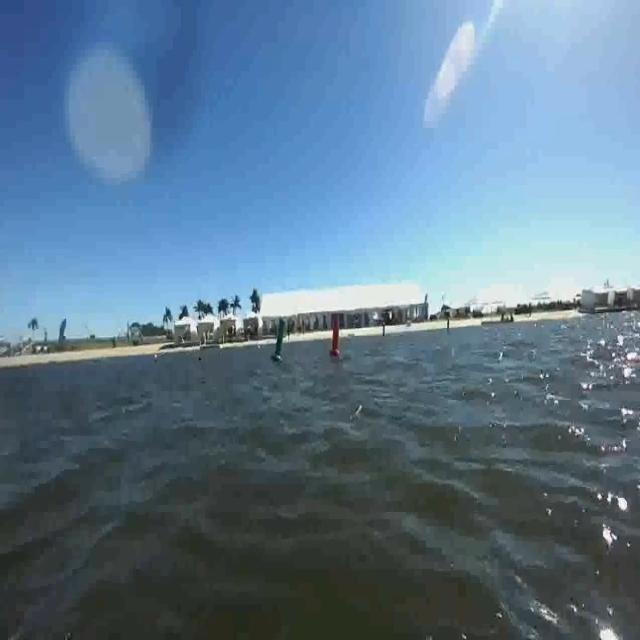green-column-buoy: (271, 316, 289, 364)
red-column-buoy: (328, 314, 343, 358)
